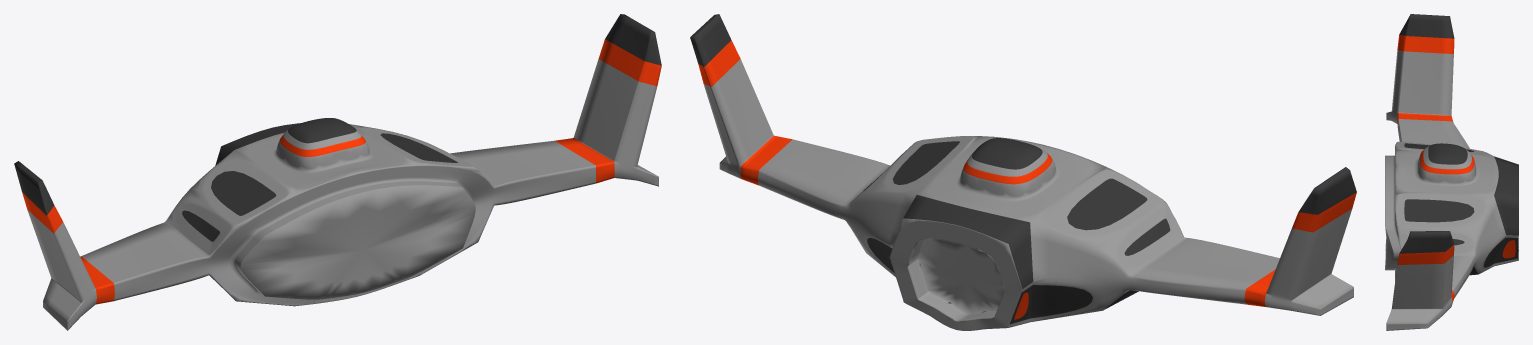
Rendered from Modular_Wings_01.FBX.
The picture shows the model from 3 angles, left to right: view 1: azimuth 30°, elevation 25°; view 2: azimuth 150°, elevation 25°; view 3: azimuth 270°, elevation 25°; orthographic projection. The views are drawn at different scales.
Parts seen in each view (by area): view 1: Wings; view 2: Wings; view 3: Wings.
Boxes of the visible parts, left/top/right/bottom form: Wings: left=14, top=14, right=661, bottom=330; Wings: left=690, top=14, right=1356, bottom=330; Wings: left=1385, top=14, right=1518, bottom=330.
Size of the model in its own units: 842 by 239 by 217.
